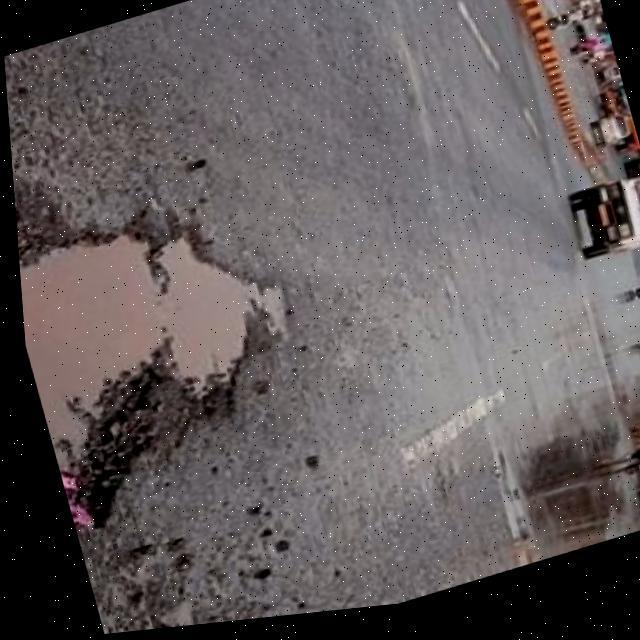pothole: (11, 158, 332, 539)
